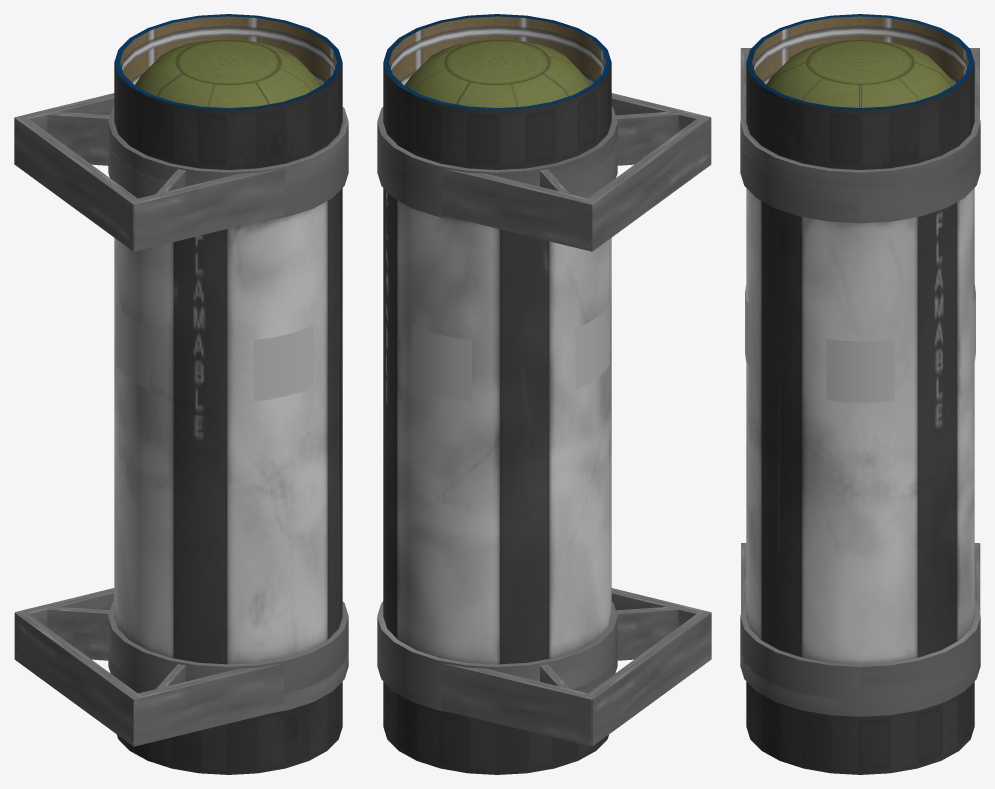
The model's file is FLM-900S.FBX.
3 views of the same model, side by side, from view 1: azimuth 30°, elevation 25°; view 2: azimuth 150°, elevation 25°; view 3: azimuth 270°, elevation 25° (orthographic).
Visible parts, largest first — view 1: Cylinder002, TankSleeve001, TankSleeve002, EndCap001, Box006, Box007, Box011, Box003, MountingBracketBand002, BarrelBand003, decalPanel001, MountingBracketBand001 (+6 smaller); view 2: Cylinder002, TankSleeve001, TankSleeve002, EndCap001, Box001, Box010, Box011, Box003, MountingBracketBand002, BarrelBand003, decalPanel003, MountingBracketBand001 (+6 smaller); view 3: Cylinder002, TankSleeve001, TankSleeve002, EndCap001, MountingBracketBand002, MountingBracketBand001, BarrelBand003, decalPanel002, BarrelBand002, Box006, Box010.
Boxes of the visible parts, left/top/right/bottom form: Cylinder002: left=114, top=188, right=342, bottom=664; TankSleeve001: left=114, top=14, right=342, bottom=169; TankSleeve002: left=117, top=681, right=342, bottom=774; EndCap001: left=118, top=39, right=338, bottom=169; Box006: left=129, top=168, right=284, bottom=251; Box007: left=134, top=663, right=284, bottom=746; Box011: left=14, top=610, right=142, bottom=746; Box003: left=14, top=115, right=137, bottom=251; MountingBracketBand002: left=108, top=601, right=348, bottom=693; BarrelBand003: left=108, top=107, right=348, bottom=185; decalPanel001: left=254, top=325, right=313, bottom=401; MountingBracketBand001: left=108, top=139, right=348, bottom=221; Cylinder002: left=383, top=188, right=611, bottom=664; TankSleeve001: left=383, top=14, right=611, bottom=169; TankSleeve002: left=383, top=681, right=608, bottom=774; EndCap001: left=387, top=39, right=607, bottom=169; Box001: left=441, top=168, right=595, bottom=251; Box010: left=441, top=663, right=591, bottom=746; Box011: left=583, top=610, right=711, bottom=746; Box003: left=584, top=117, right=711, bottom=251; MountingBracketBand002: left=377, top=601, right=617, bottom=694; BarrelBand003: left=377, top=107, right=617, bottom=185; decalPanel003: left=412, top=325, right=471, bottom=401; MountingBracketBand001: left=377, top=139, right=617, bottom=221; Cylinder002: left=746, top=188, right=974, bottom=664; TankSleeve001: left=746, top=14, right=974, bottom=169; TankSleeve002: left=746, top=681, right=974, bottom=774; EndCap001: left=750, top=39, right=970, bottom=169; MountingBracketBand002: left=740, top=601, right=980, bottom=700; MountingBracketBand001: left=740, top=139, right=980, bottom=223; BarrelBand003: left=740, top=107, right=980, bottom=189; decalPanel002: left=826, top=339, right=894, bottom=402; BarrelBand002: left=740, top=650, right=980, bottom=716; Box006: left=740, top=48, right=750, bottom=119; Box010: left=974, top=543, right=980, bottom=613.
Size of what is drawn, in the model's own units: 0.8151 by 0.6564 by 2.
